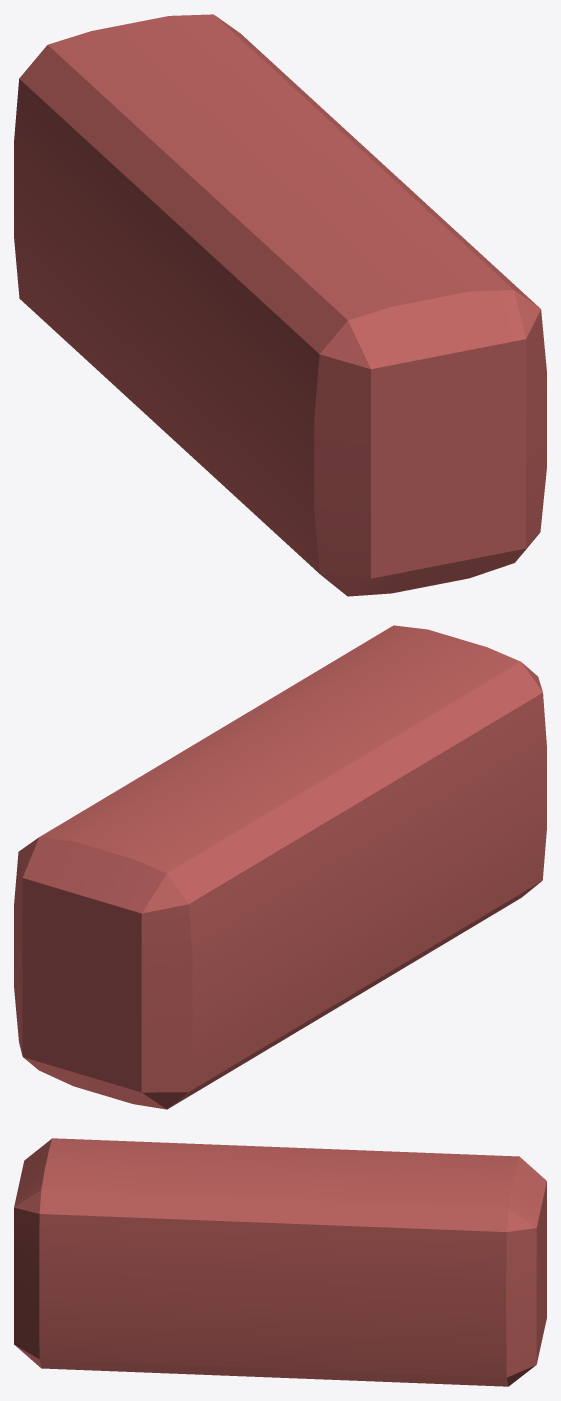
Rendered from brick.fbx.
3 renders of one model, top to bottom at view 1: azimuth 30°, elevation 25°; view 2: azimuth 150°, elevation 25°; view 3: azimuth 270°, elevation 25°, orthographic. The views are drawn at different scales.
Parts seen in each view (by area): view 1: brick28; view 2: brick28; view 3: brick28.
Boxes of the visible parts, x1,y1,x2,y2 form: brick28: [14, 14, 546, 596]; brick28: [14, 625, 546, 1109]; brick28: [14, 1138, 546, 1386].
Bounding box in the file's own units: 39.12 × 38.58 × 99.45.
